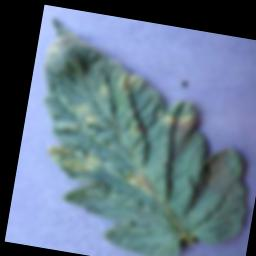Leaf_Mold: (43, 139, 104, 175), (120, 166, 164, 198), (157, 108, 200, 138), (66, 101, 104, 130), (115, 70, 145, 99)
